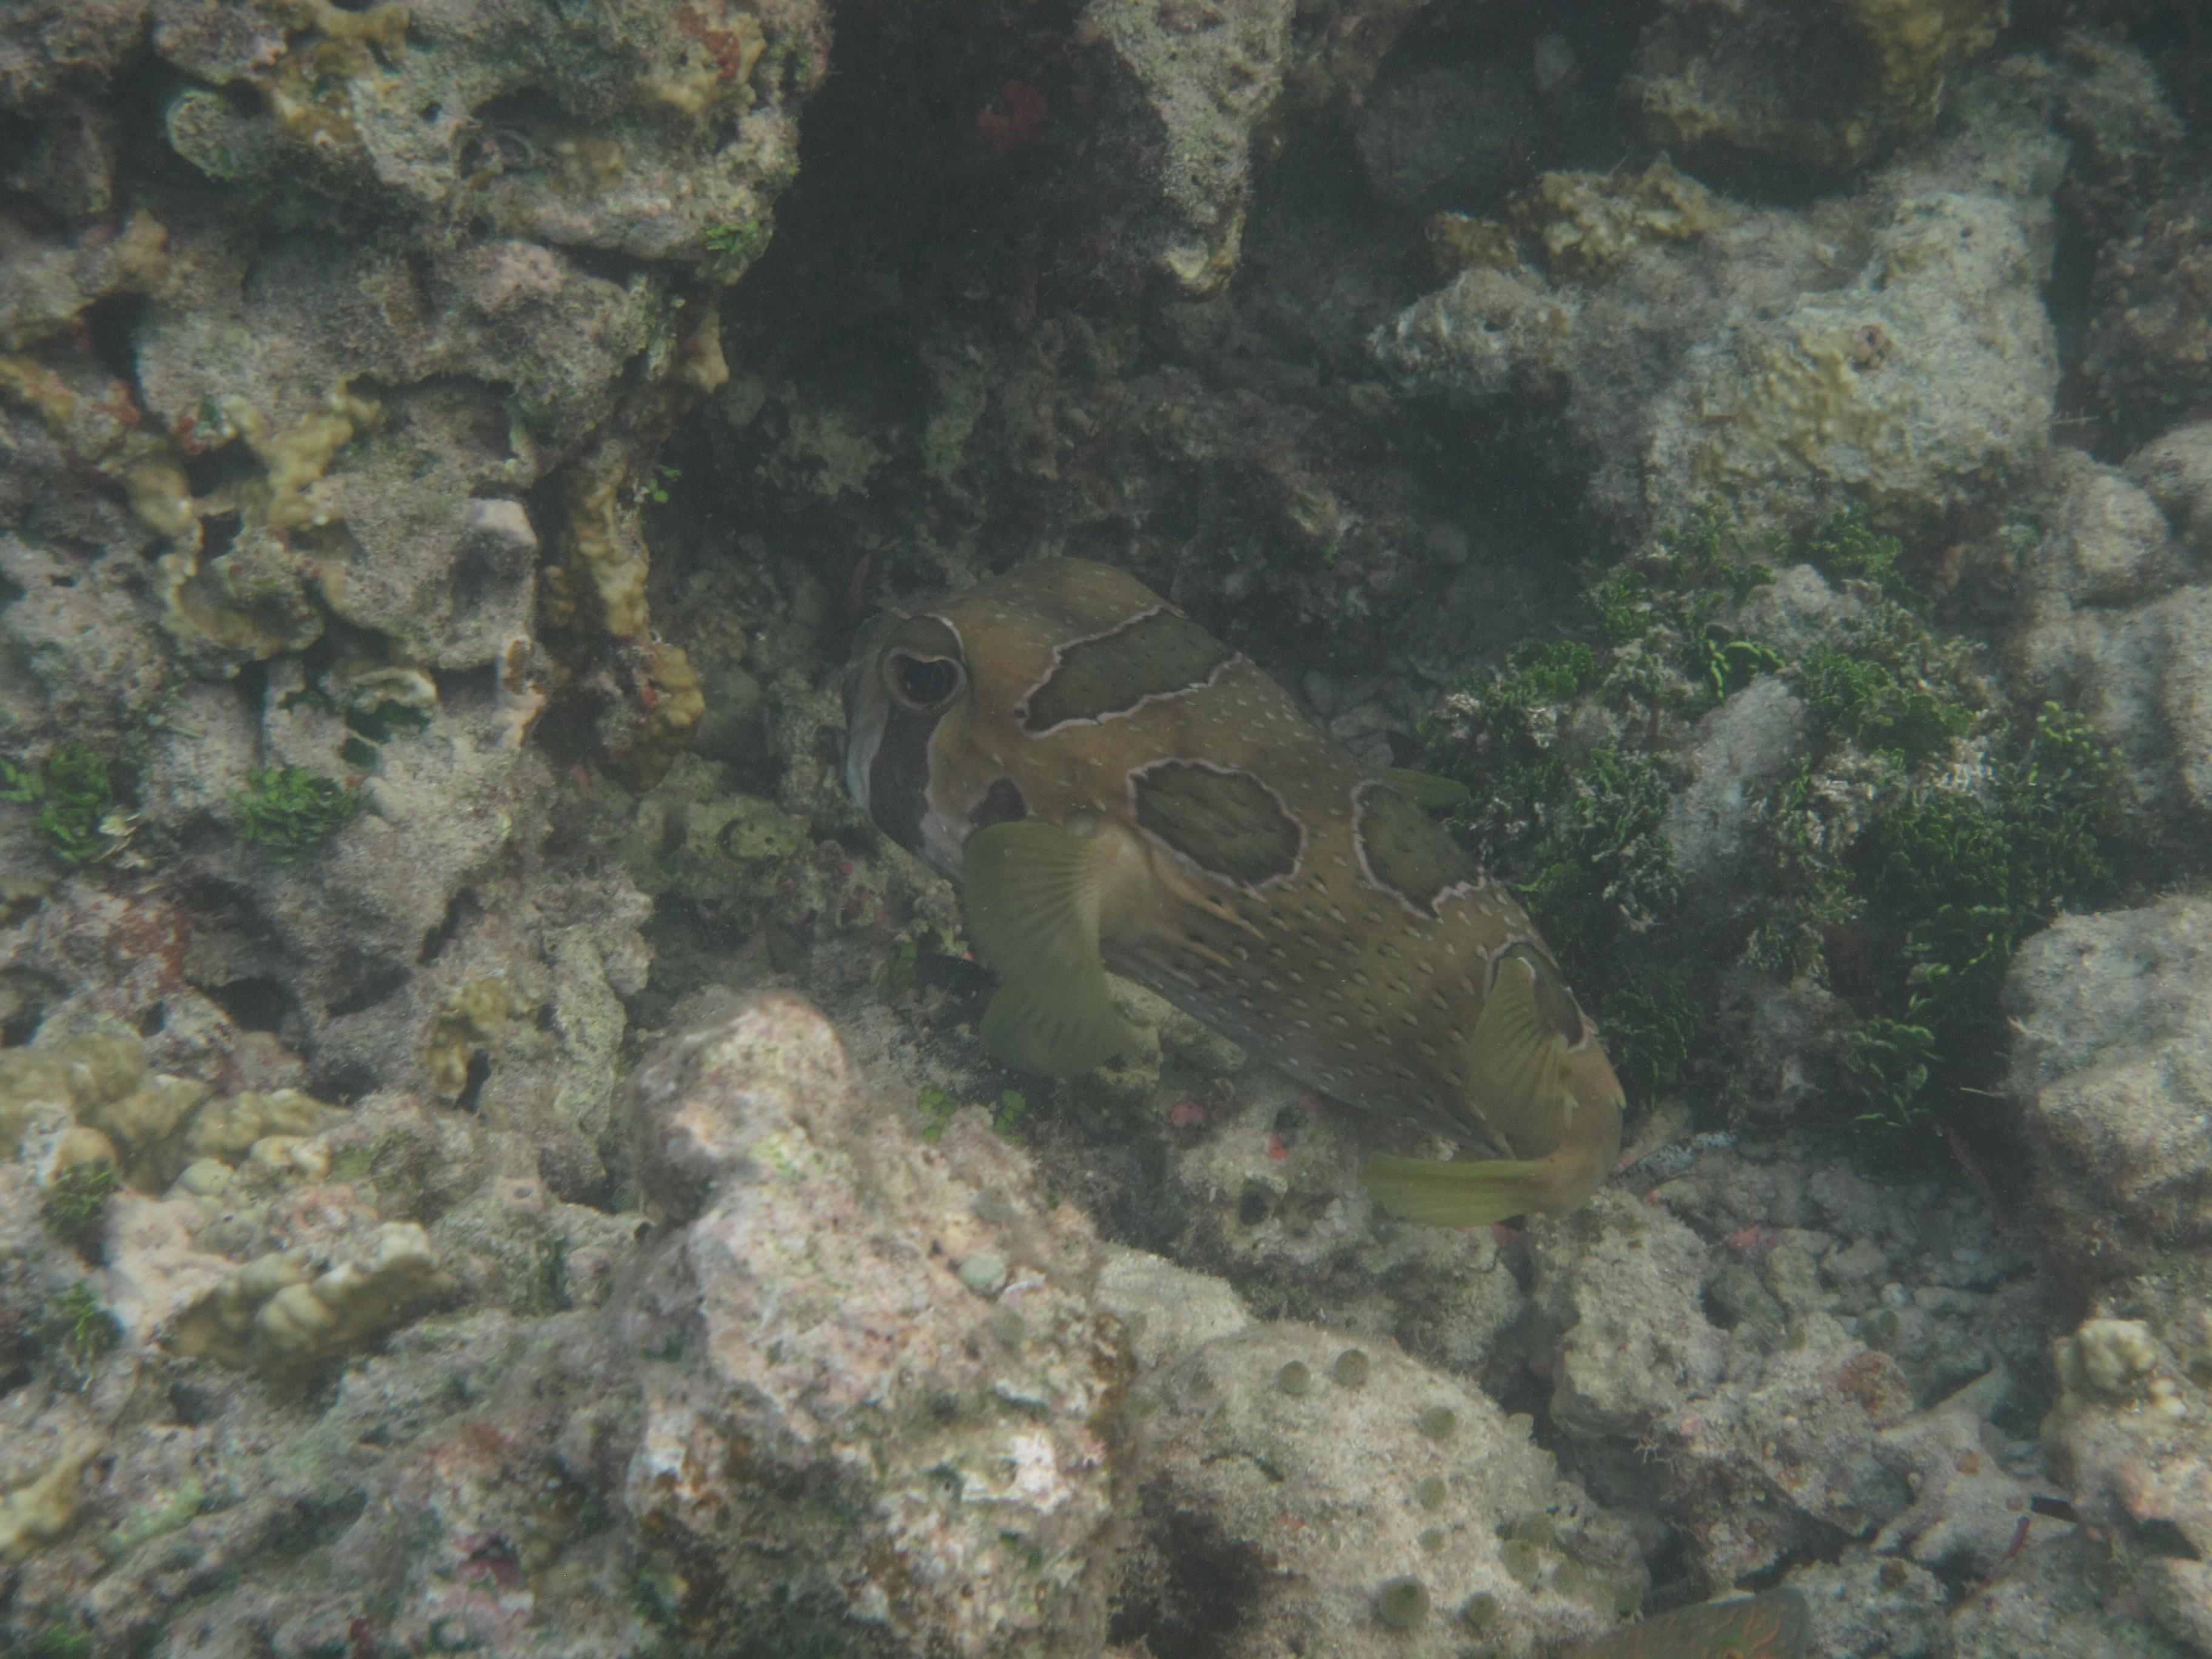Fish: (777, 528, 1683, 1255)
